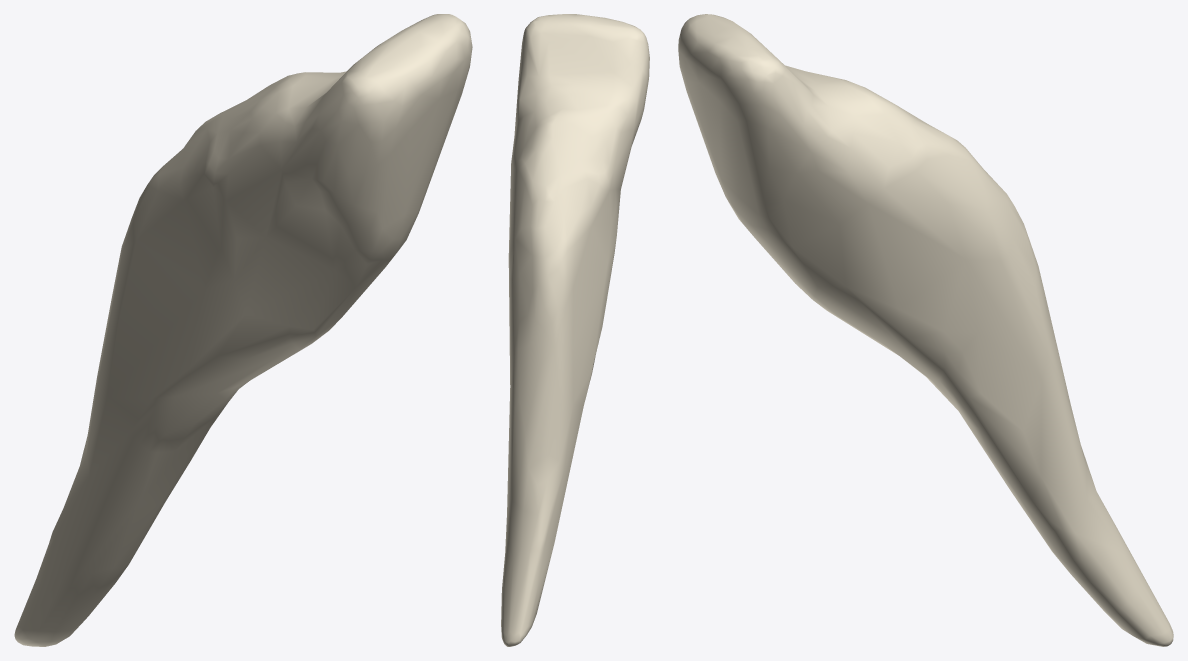
Rendered from tooth-32.glb.
The picture shows the model from 3 angles, left to right: view 1: azimuth 30°, elevation 25°; view 2: azimuth 150°, elevation 25°; view 3: azimuth 270°, elevation 25°; orthographic projection. The views are drawn at different scales.
Parts seen in each view (by area): view 1: tooth-32; view 2: tooth-32; view 3: tooth-32.
Boxes of the visible parts, x1,y1,x2,y2 form: tooth-32: (14, 14, 472, 646); tooth-32: (501, 14, 649, 646); tooth-32: (678, 14, 1173, 646).
Bounding box in the file's own units: 0.1965 × 0.6285 × 0.4207.
